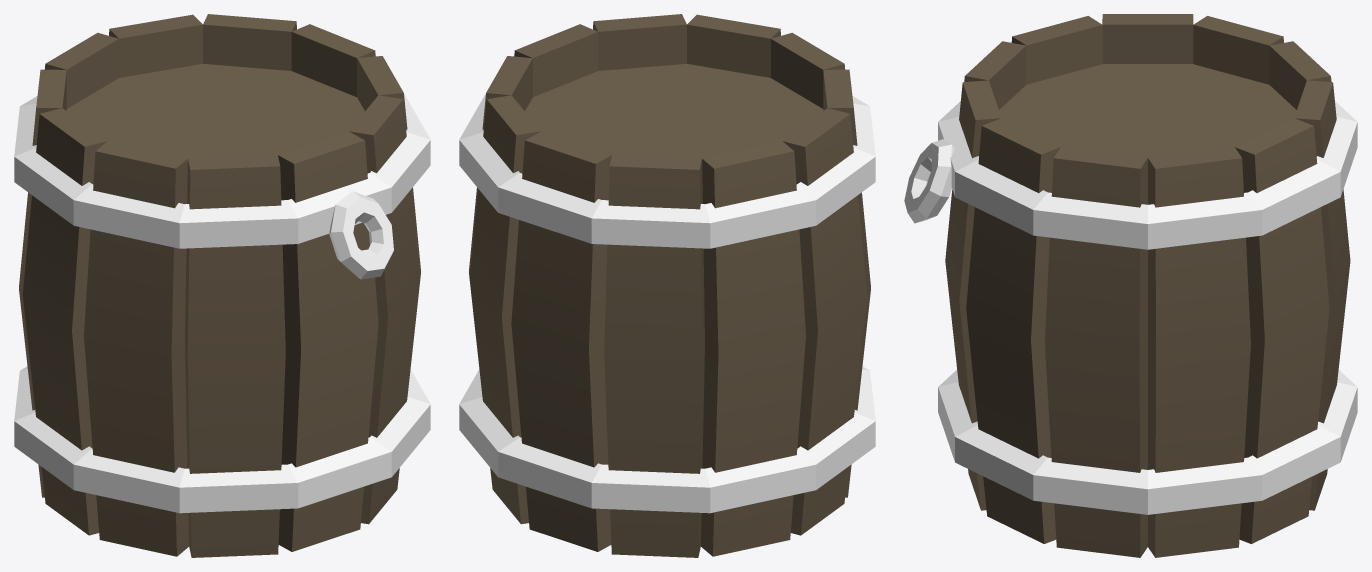
File: Baril.fbx
3 renders of one model, left to right at view 1: azimuth 30°, elevation 25°; view 2: azimuth 150°, elevation 25°; view 3: azimuth 270°, elevation 25°, orthographic.
Visible parts, largest first — view 1: pTorus4; view 2: pTorus4; view 3: pTorus4.
Part boxes in pixels (x1,y1,x2,y2): pTorus4: (14,14,430,557); pTorus4: (459,14,875,557); pTorus4: (904,14,1357,557).
Size of the model in its own units: 1.98 by 2.06 by 2.16.
